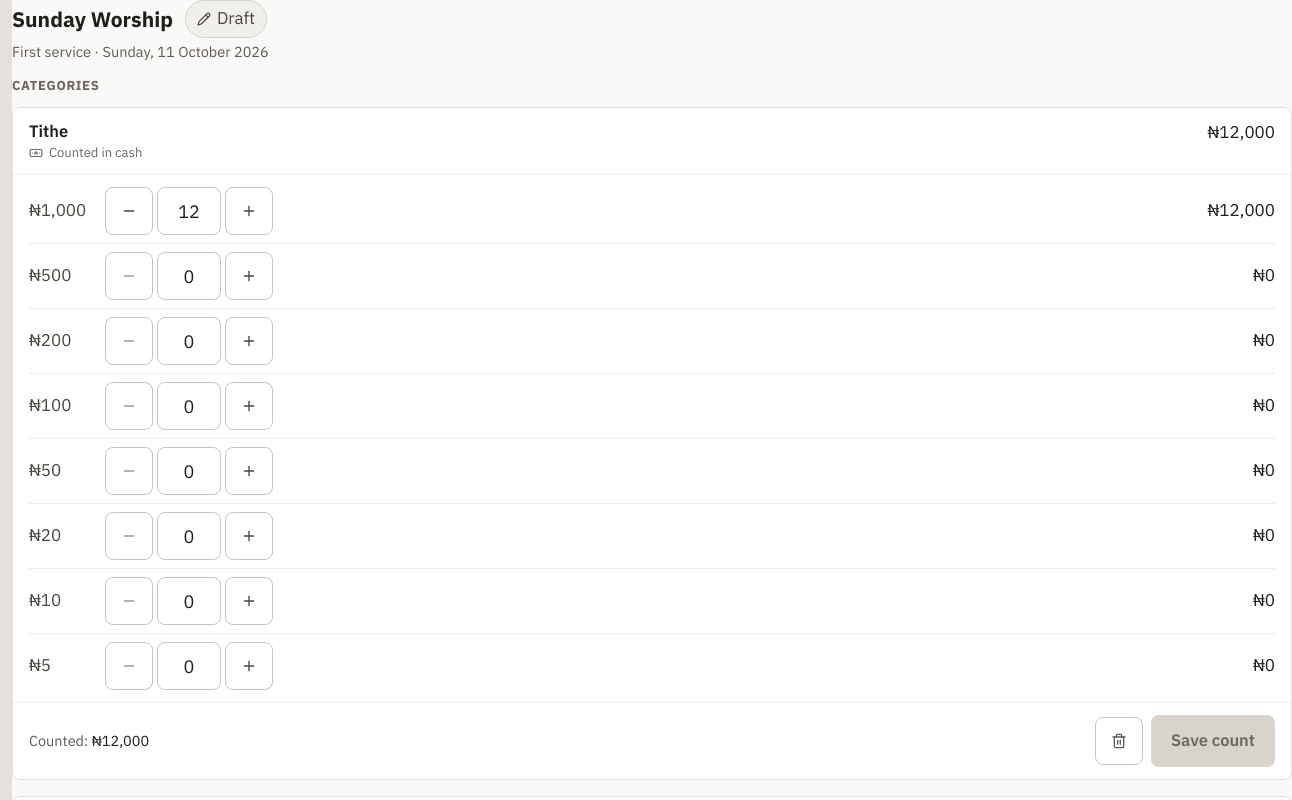
a counted but unsaved figure › marks the card itself as holding money that is not saved
expect the element "Tithe" shows "Counted:": met, box [29, 731, 92, 750]
Replace the text in the field named "How many 1,000 naira notes" with "20": {"x": 189, "y": 211} [157, 187, 221, 235]
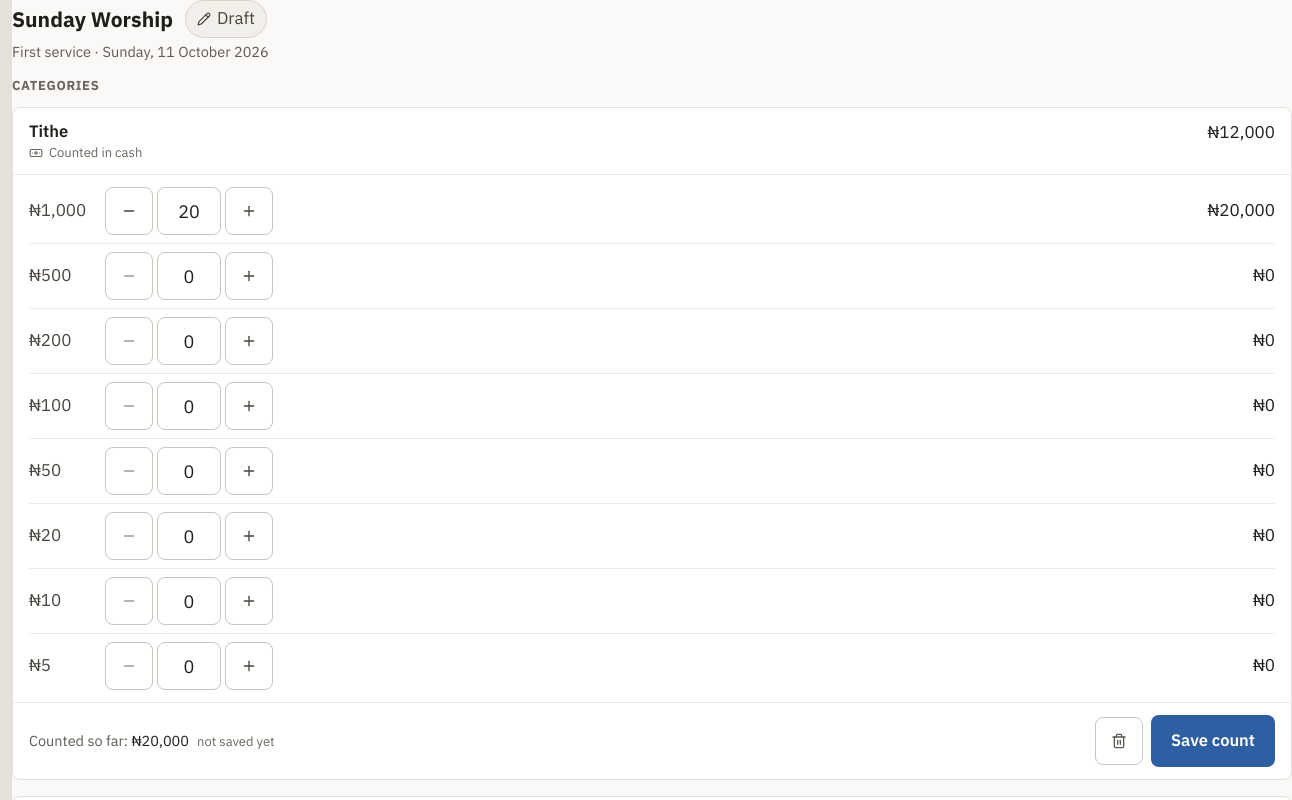
expect the element "Tithe" shows "Counted so far:": met, box [29, 731, 132, 750]
expect the element "Tithe" shows "not saved yet": met, box [197, 733, 275, 750]
expect the element "Tithe" shows "₦20,000": met, box [1208, 199, 1275, 221]
